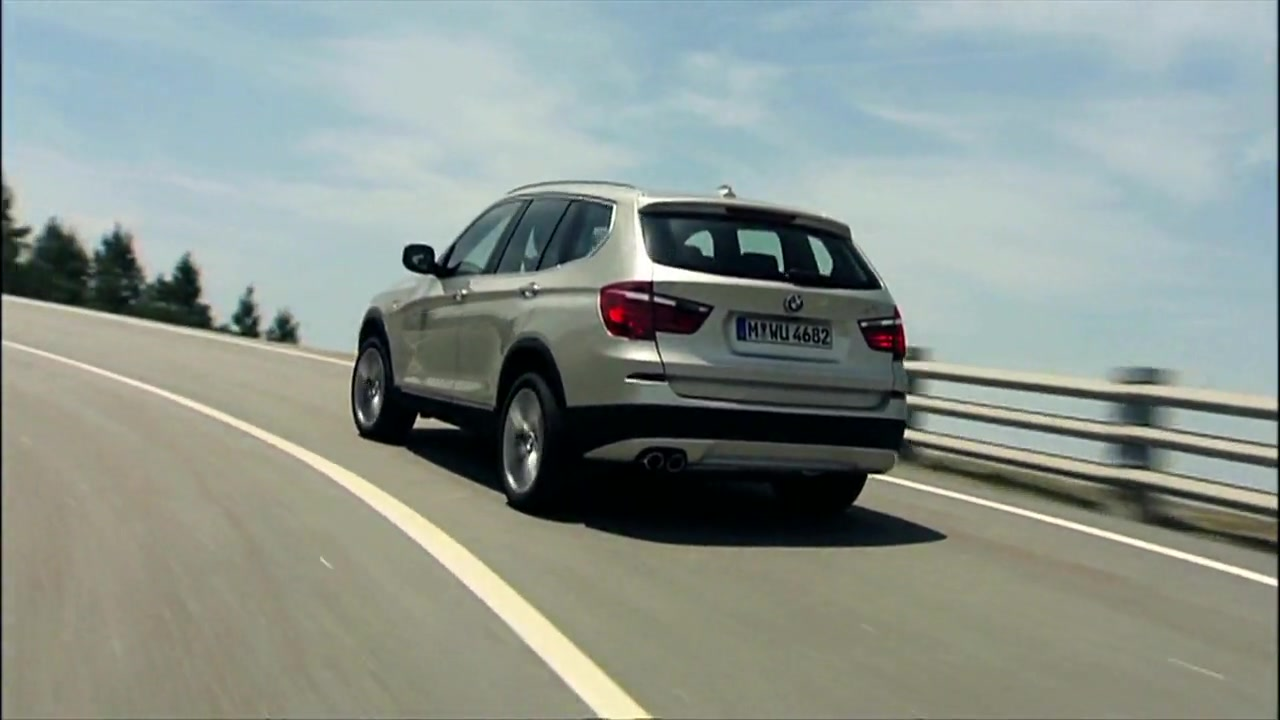car: (350, 178, 911, 512)
